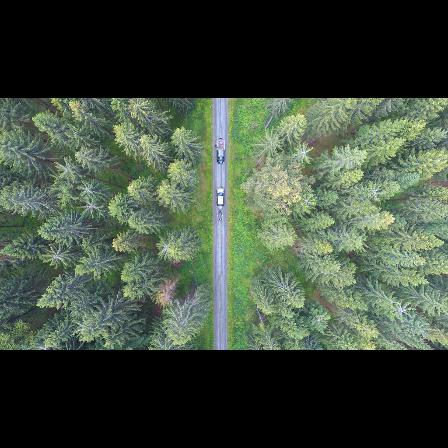Sick: (41, 245, 69, 272), (76, 177, 101, 202), (78, 195, 104, 219), (292, 142, 316, 168), (363, 182, 386, 204), (391, 300, 414, 322), (155, 238, 175, 260)
